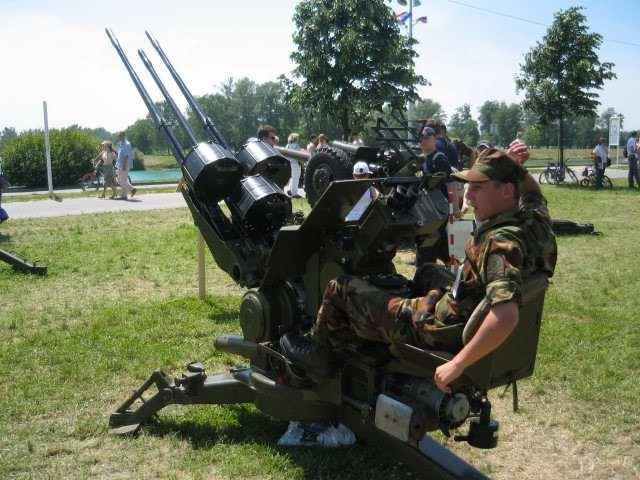MIL_SPG: (108, 31, 498, 447)
